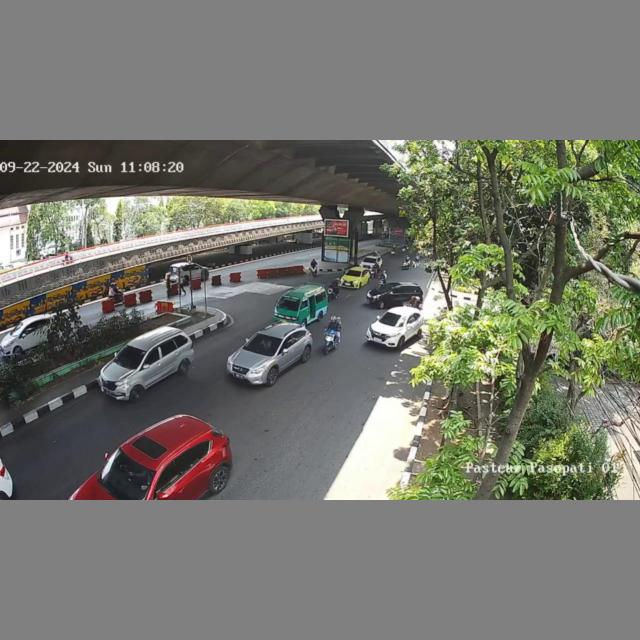windshield: (100, 450, 158, 498), (244, 334, 283, 357), (117, 346, 144, 365), (277, 297, 301, 311)
